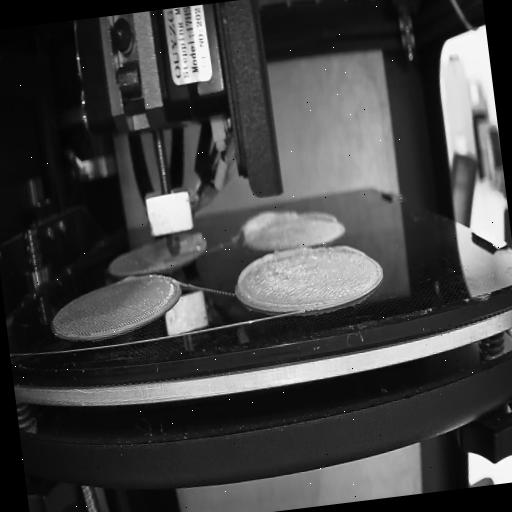over_extrusion: (233, 246, 319, 320), (237, 203, 302, 245), (301, 203, 339, 229), (328, 238, 368, 262), (190, 232, 206, 254), (118, 272, 138, 284)
